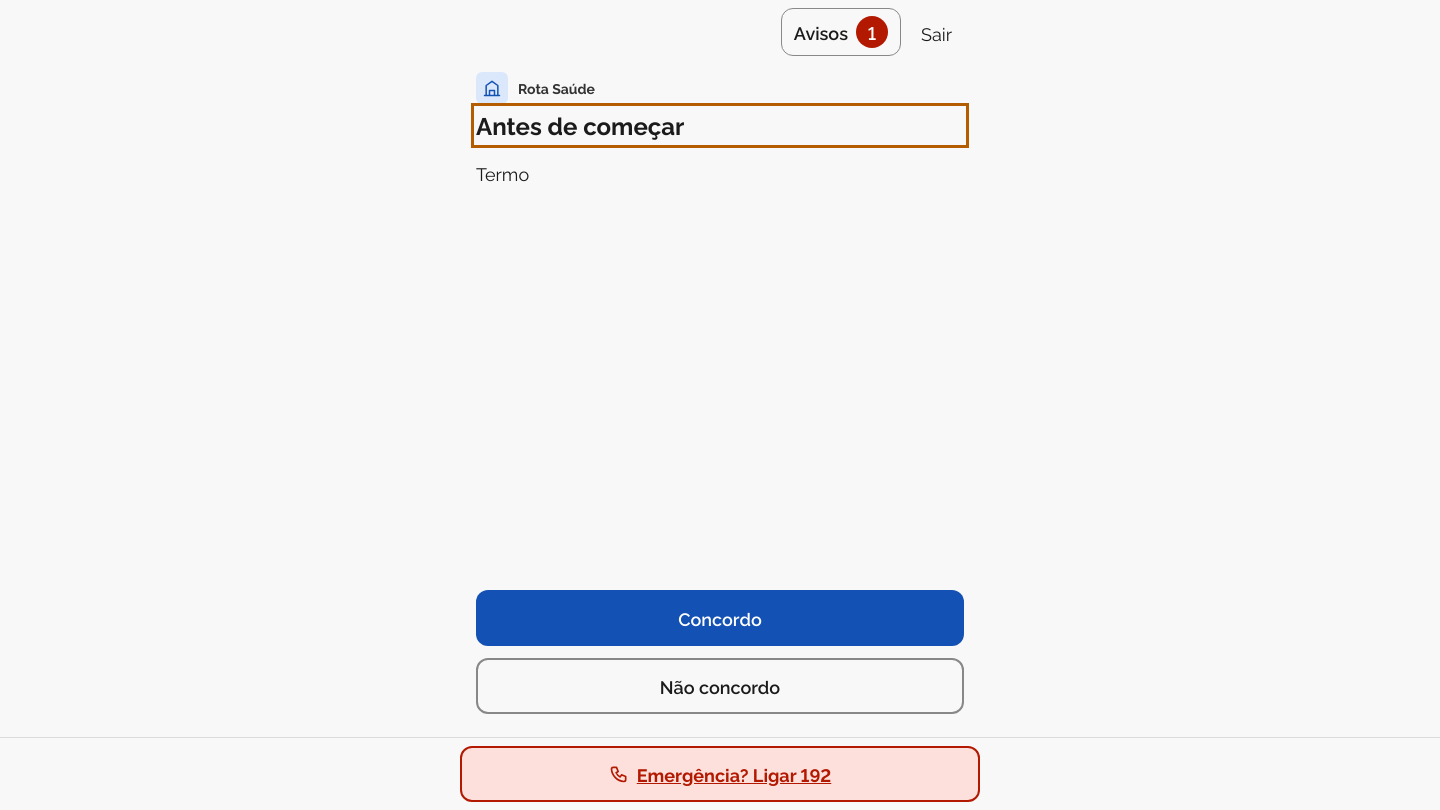
Test case: Flow — link Avisos no topo › tocar em Avisos no topo com um aviso aberto volta à lista
This screenshot has width=1440, height=810.
Step 1. Click the button "Concordo" → (720, 618), box [476,590,964,646]
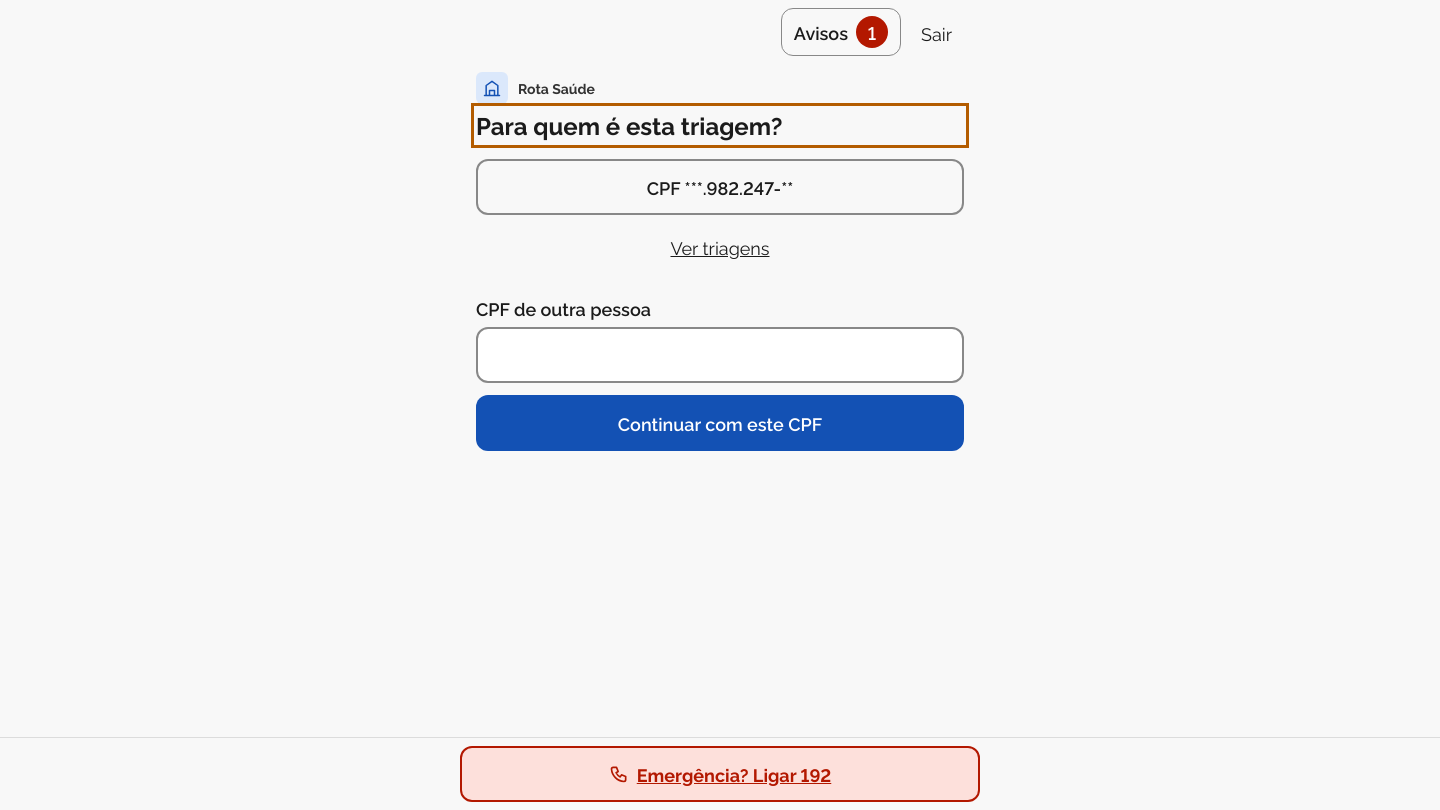
Step 2. Click the link with aria-label "Avisos, 1 novo" → (841, 32), box [781,8,901,56]
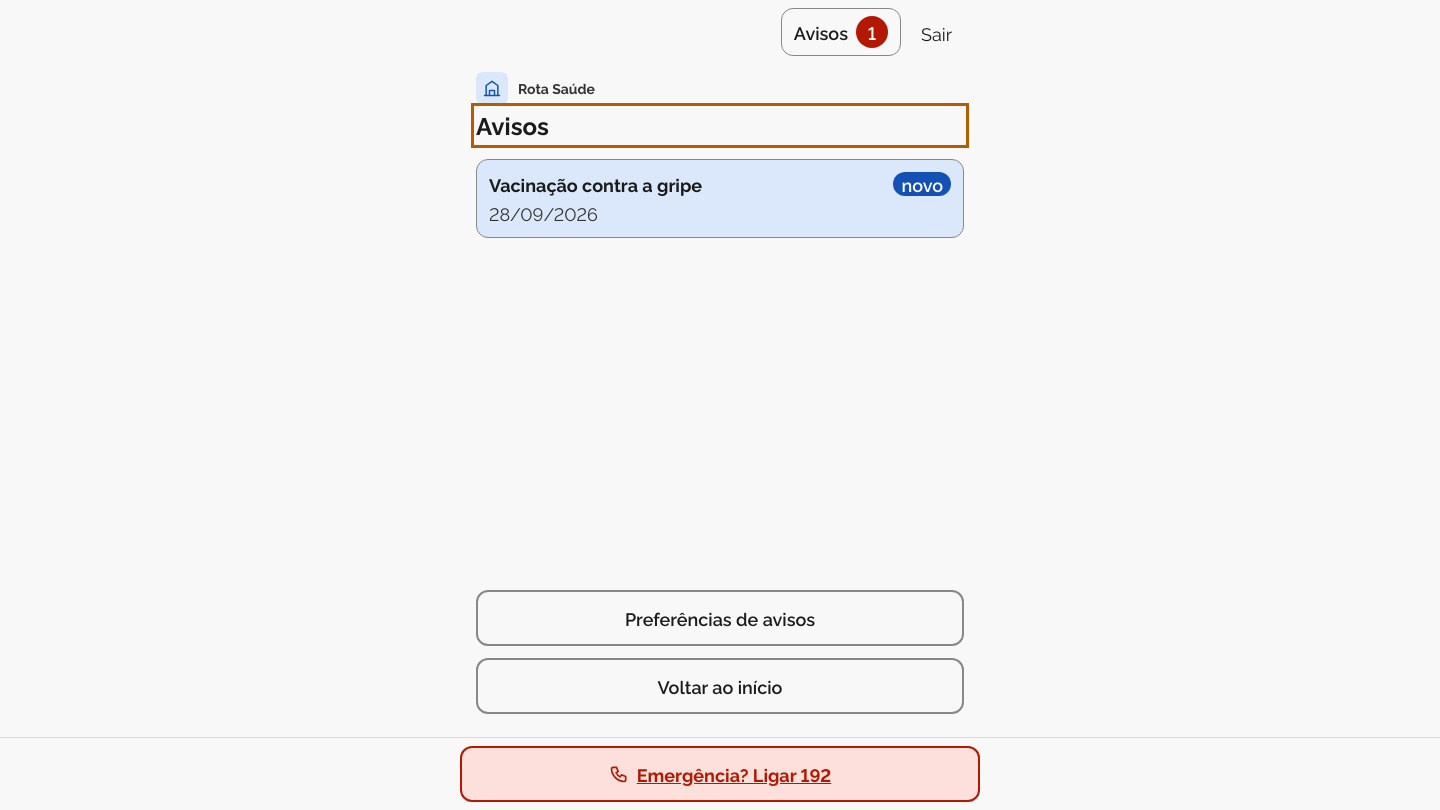
Step 3. Click the button "Vacinação contra a gripe novo 28/09/2026" → (596, 184), box [476,159,964,238]
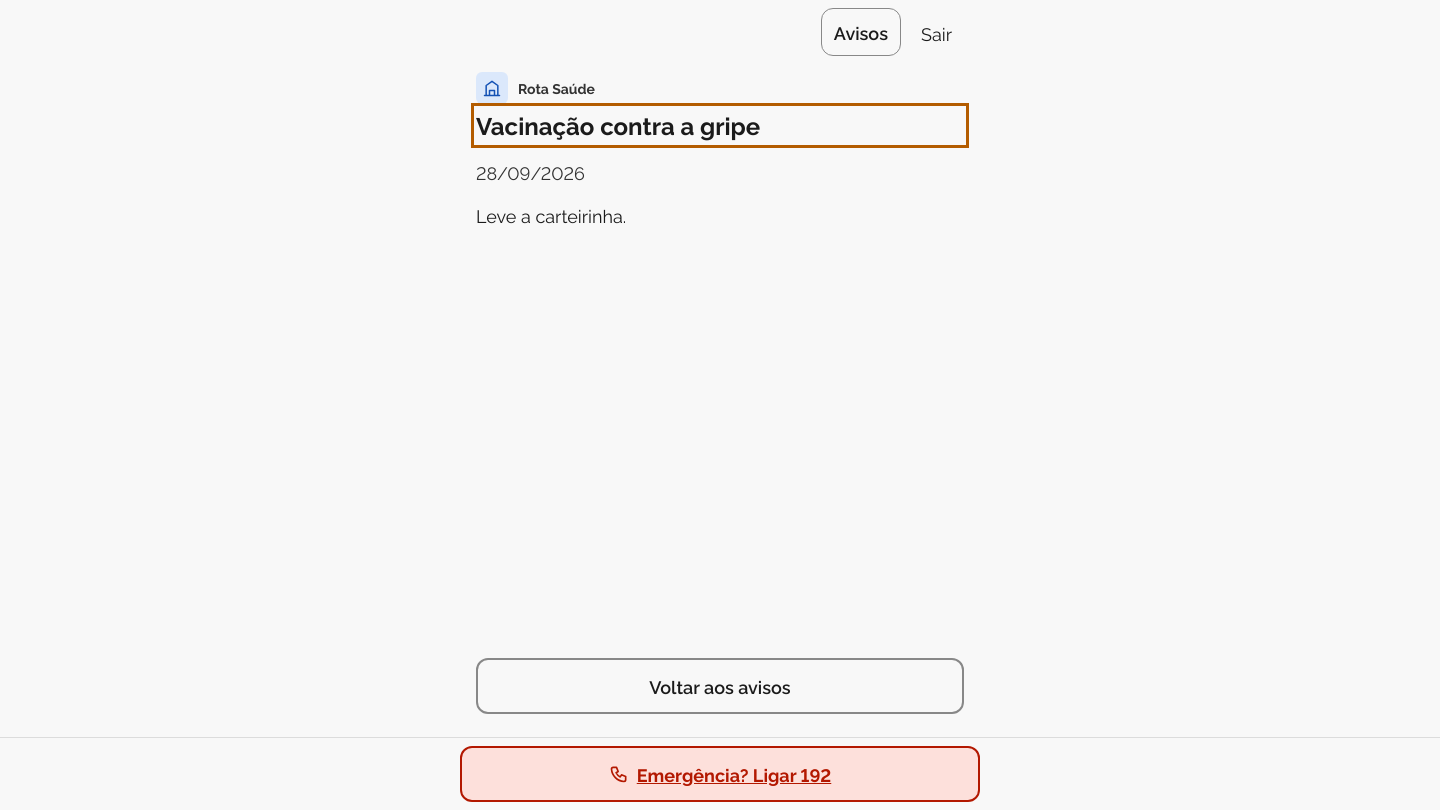
Now the button "Voltar aos avisos" is shown, box [476,658,964,714]
Step 4. Click the link "Avisos" → (861, 32), box [821,8,901,56]
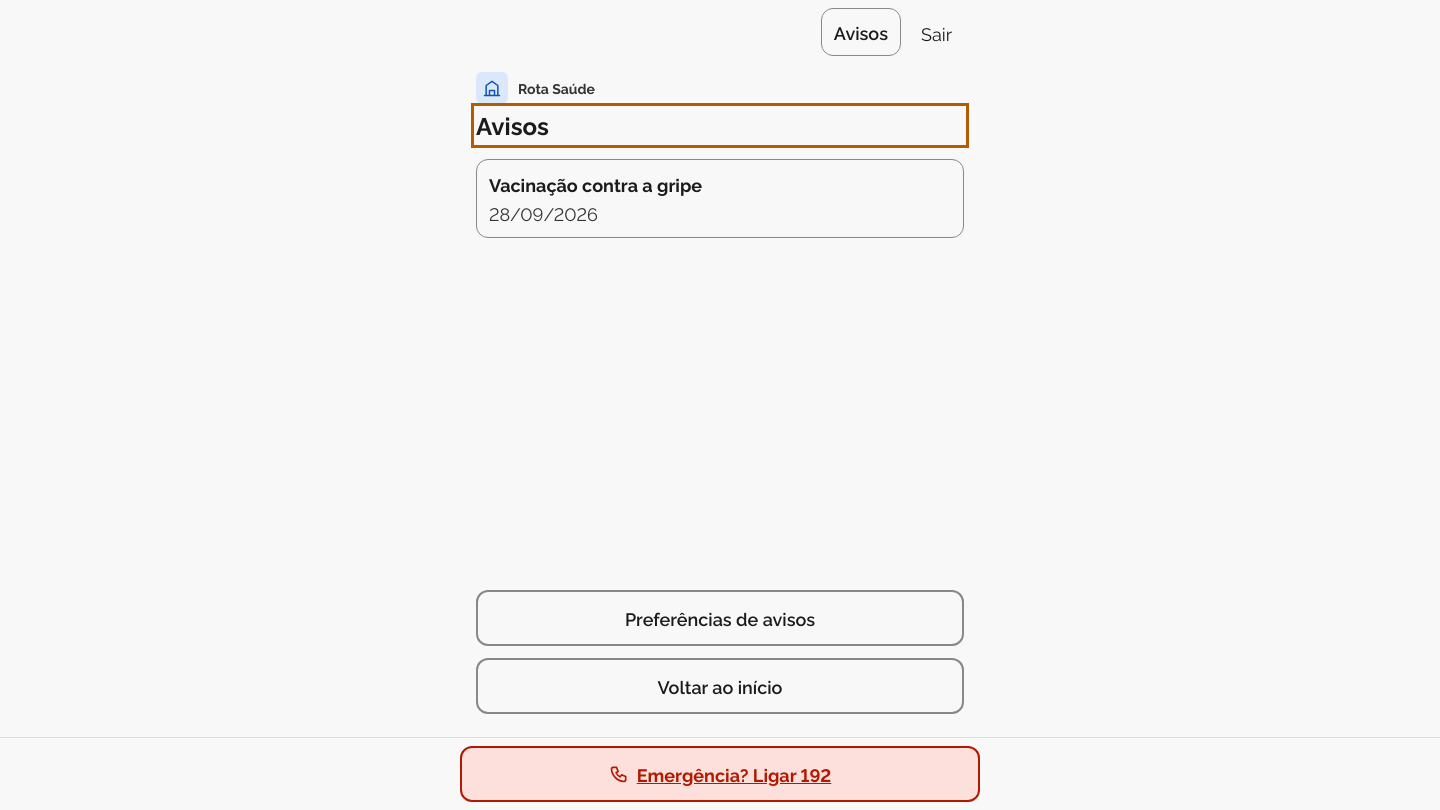
Now the button "Vacinação contra a gripe 28/09/2026" is shown, box [476,159,964,238]
Now the heading "Avisos" is shown, box [476,108,549,141]
Now the button "Voltar aos avisos" is gone
